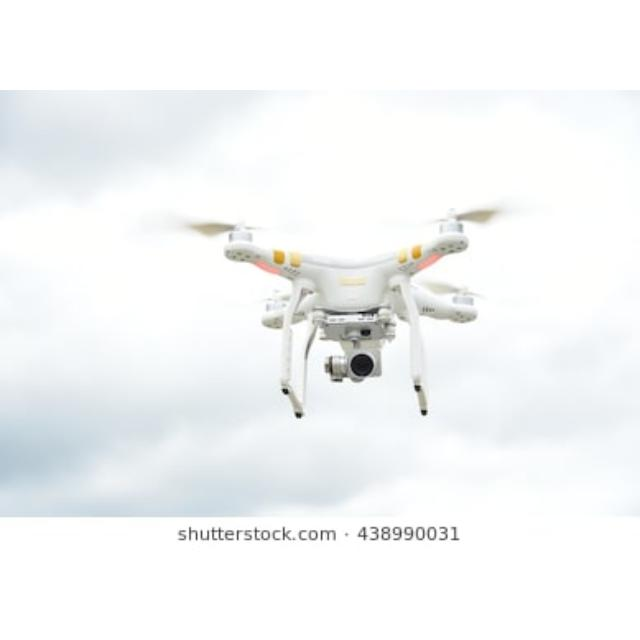Drones: (185, 210, 498, 424)
